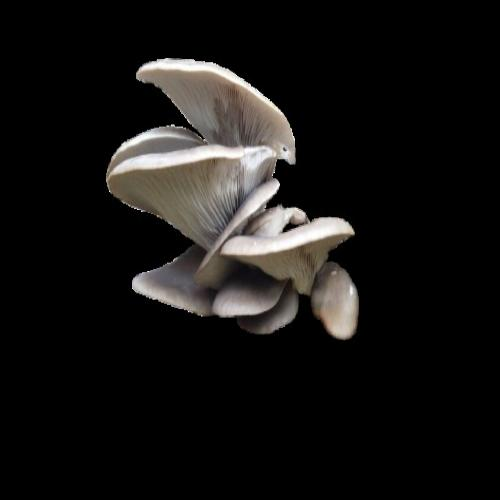Oyster Mushroom: (100, 85, 284, 260), (128, 26, 316, 191), (219, 177, 357, 304), (192, 167, 281, 296), (129, 229, 231, 319), (98, 114, 206, 176), (209, 258, 286, 334), (233, 280, 309, 346), (239, 195, 309, 247), (311, 262, 358, 339)
